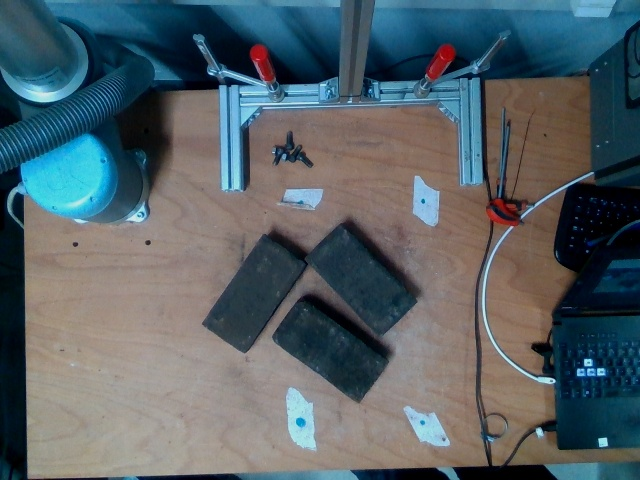brick: (303, 224, 417, 337), (201, 237, 306, 355), (270, 300, 389, 404)
